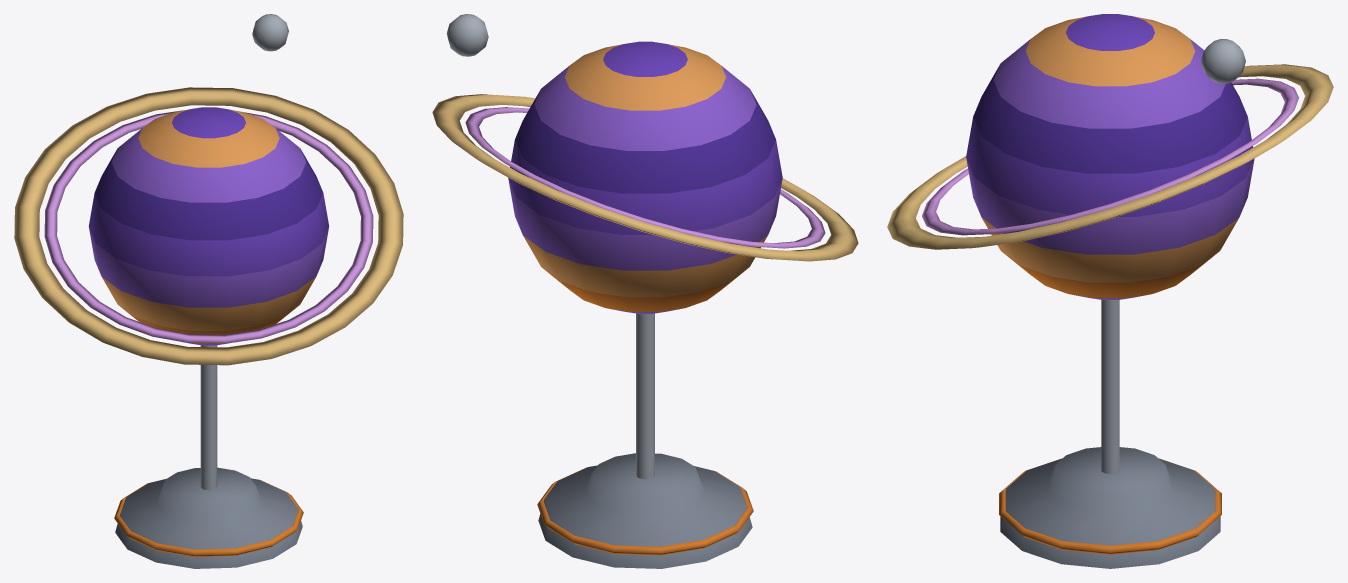
File: space-deco3.glb
3 views of the same model, side by side, from view 1: azimuth 30°, elevation 25°; view 2: azimuth 150°, elevation 25°; view 3: azimuth 270°, elevation 25° (orthographic). The views are drawn at different scales.
Parts seen in each view (by area): view 1: space-deco3; view 2: space-deco3; view 3: space-deco3.
Part boxes in pixels (bbox=[...]): space-deco3: bbox=[14, 14, 403, 568]; space-deco3: bbox=[432, 14, 858, 568]; space-deco3: bbox=[887, 14, 1333, 568].
Size of the model in its own units: 3.68 by 4.78 by 3.56.
